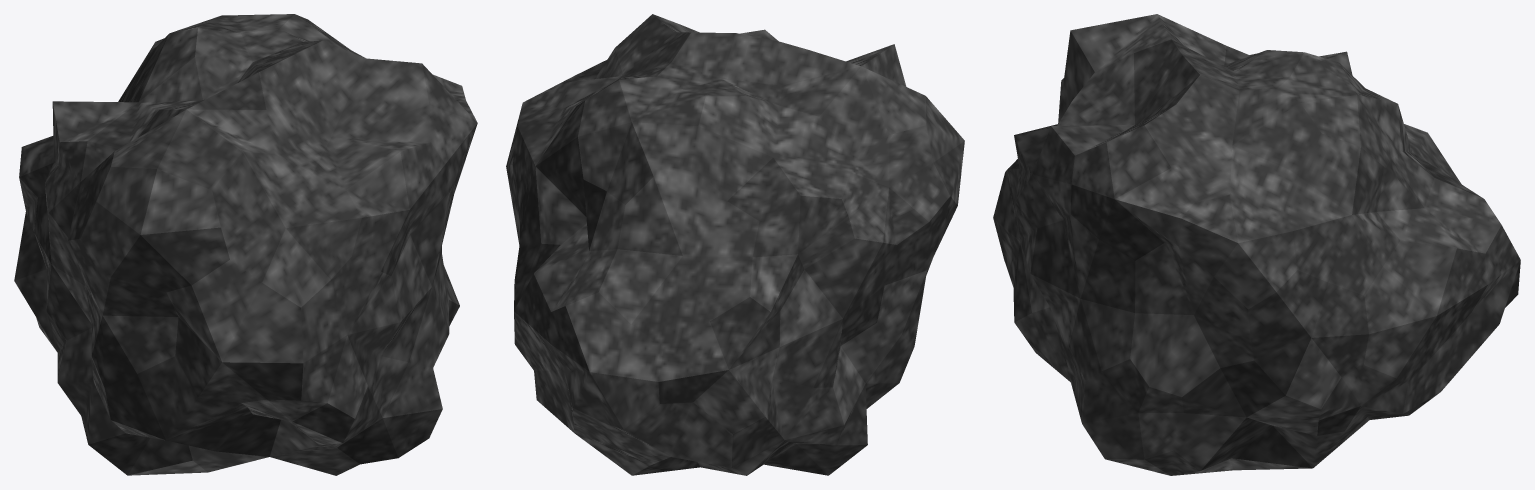
The model's file is Rocks.fbx.
3 views of the same model, side by side, from view 1: azimuth 30°, elevation 25°; view 2: azimuth 150°, elevation 25°; view 3: azimuth 270°, elevation 25° (orthographic). The views are drawn at different scales.
Parts seen in each view (by area): view 1: Icosphere; view 2: Icosphere; view 3: Icosphere.
Part boxes in pixels (<box>): Icosphere: <box>14,14,477,475</box>; Icosphere: <box>506,14,964,475</box>; Icosphere: <box>993,14,1520,475</box>.
Bounding box in the file's own units: 302 × 346 × 286.
Materials: 1 (1 with a texture image).
